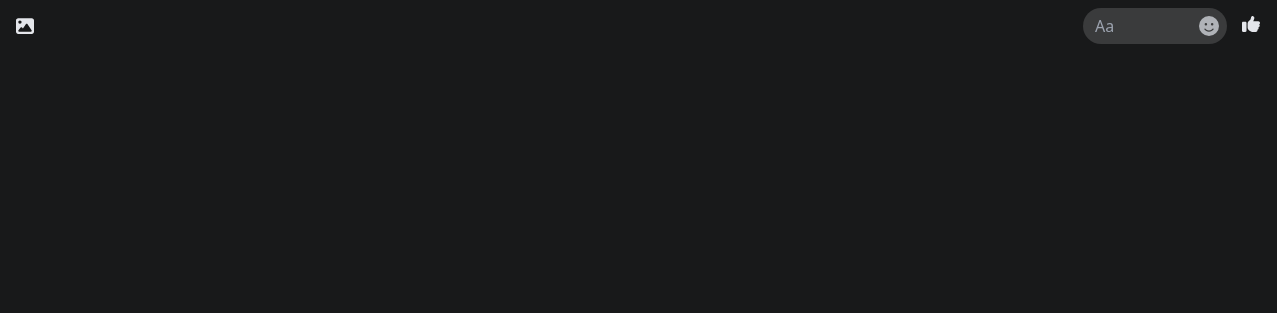
it: CreateMessage component tests › can create message with only emojis
Click the button named "Choose an emoji".
click(1209, 26)  # box [1199,16,1219,36]
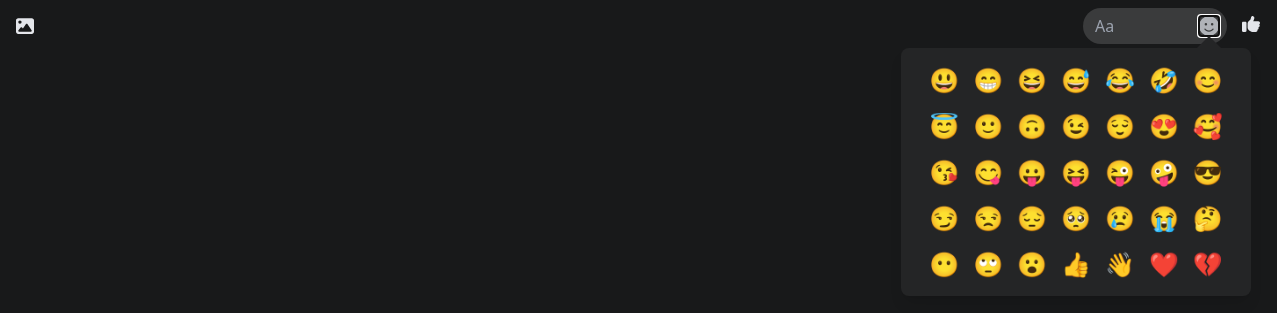
Click the button "😃".
click(944, 80)  # box [925,60,963,100]
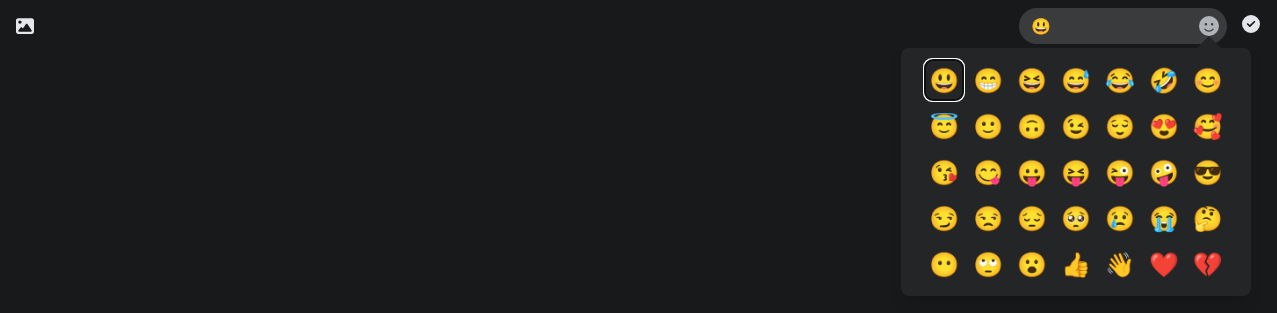
Expected: the field named "Message input" holds "😃", [1027,16,1199,36]
